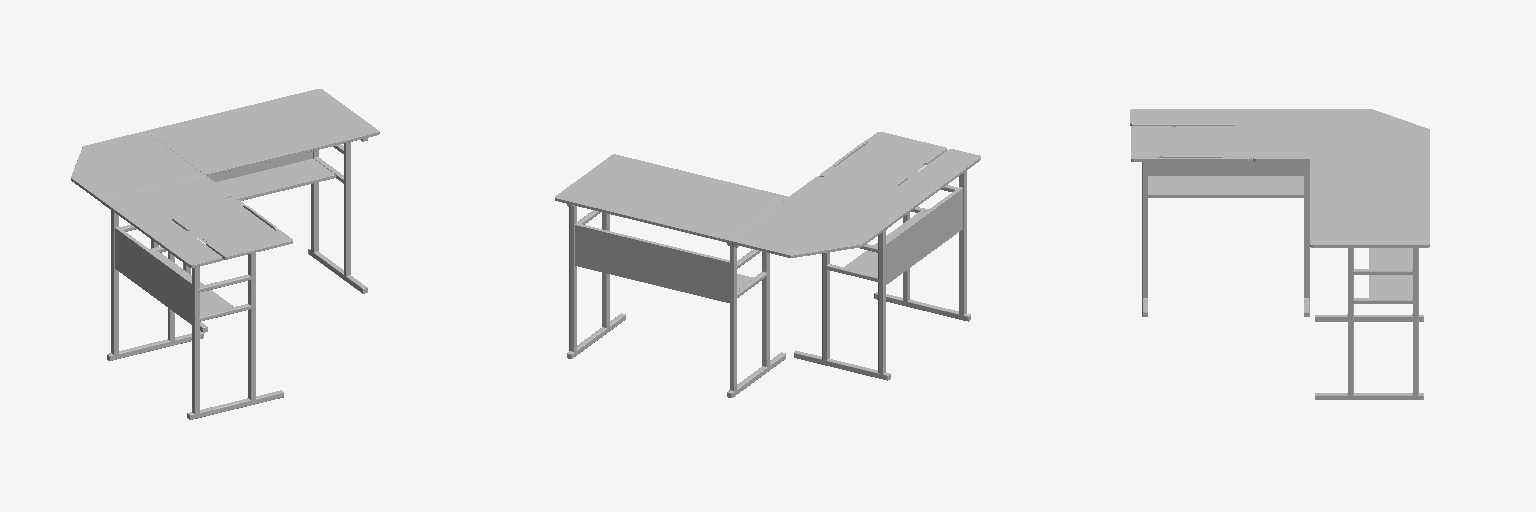
File: LDesk.obj
3 views of the same model, side by side, from view 1: azimuth 30°, elevation 25°; view 2: azimuth 150°, elevation 25°; view 3: azimuth 270°, elevation 25° (orthographic).
Visible parts, largest first — view 1: main_top_Cube.006, secondary_legs_Cube.013, tri_top_Cube.001, secondary_top_Cube.004, secondary_stand_top_Cube.005, secondary_shelf_back_Cube.019, main_legs_Cube, main_shelf_bottom_Cube.010, main_shelf_back_Cube.018, secondary_shelf_bottom_Cube.012; view 2: main_top_Cube.006, main_shelf_back_Cube.018, tri_top_Cube.001, secondary_top_Cube.004, main_legs_Cube, secondary_legs_Cube.013, secondary_stand_top_Cube.005, secondary_shelf_back_Cube.019, secondary_shelf_bottom_Cube.012; view 3: main_top_Cube.006, tri_top_Cube.001, secondary_top_Cube.004, secondary_stand_top_Cube.005, main_legs_Cube, secondary_shelf_bottom_Cube.012, secondary_shelf_back_Cube.019, main_shelf_bottom_Cube.010, secondary_legs_Cube.013.
Boxes of the visible parts, <box> form: main_top_Cube.006: <box>146,89,379,176</box>; secondary_legs_Cube.013: <box>107,207,283,419</box>; tri_top_Cube.001: <box>71,131,204,201</box>; secondary_top_Cube.004: <box>101,175,231,267</box>; secondary_stand_top_Cube.005: <box>172,197,292,259</box>; secondary_shelf_back_Cube.019: <box>115,227,191,324</box>; main_legs_Cube: <box>151,138,367,332</box>; main_shelf_bottom_Cube.010: <box>216,159,335,200</box>; main_shelf_back_Cube.018: <box>209,151,312,181</box>; secondary_shelf_bottom_Cube.012: <box>153,251,233,314</box>; main_top_Cube.006: <box>555,154,787,242</box>; main_shelf_back_Cube.018: <box>575,223,729,302</box>; tri_top_Cube.001: <box>729,197,892,257</box>; secondary_top_Cube.004: <box>789,149,980,223</box>; main_legs_Cube: <box>567,204,785,397</box>; secondary_legs_Cube.013: <box>794,171,970,380</box>; secondary_stand_top_Cube.005: <box>820,132,946,188</box>; secondary_shelf_back_Cube.019: <box>886,187,962,284</box>; secondary_shelf_bottom_Cube.012: <box>844,211,924,275</box>; main_top_Cube.006: <box>1310,159,1429,247</box>; tri_top_Cube.001: <box>1310,109,1429,158</box>; secondary_top_Cube.004: <box>1130,109,1309,161</box>; secondary_stand_top_Cube.005: <box>1131,126,1250,161</box>; main_legs_Cube: <box>1315,248,1423,399</box>; secondary_shelf_bottom_Cube.012: <box>1148,176,1303,197</box>; secondary_shelf_back_Cube.019: <box>1148,161,1303,175</box>; main_shelf_bottom_Cube.010: <box>1369,248,1412,297</box>; secondary_legs_Cube.013: <box>1142,155,1309,316</box>.
Size of the model in its own units: 16.16 by 8.99 by 15.